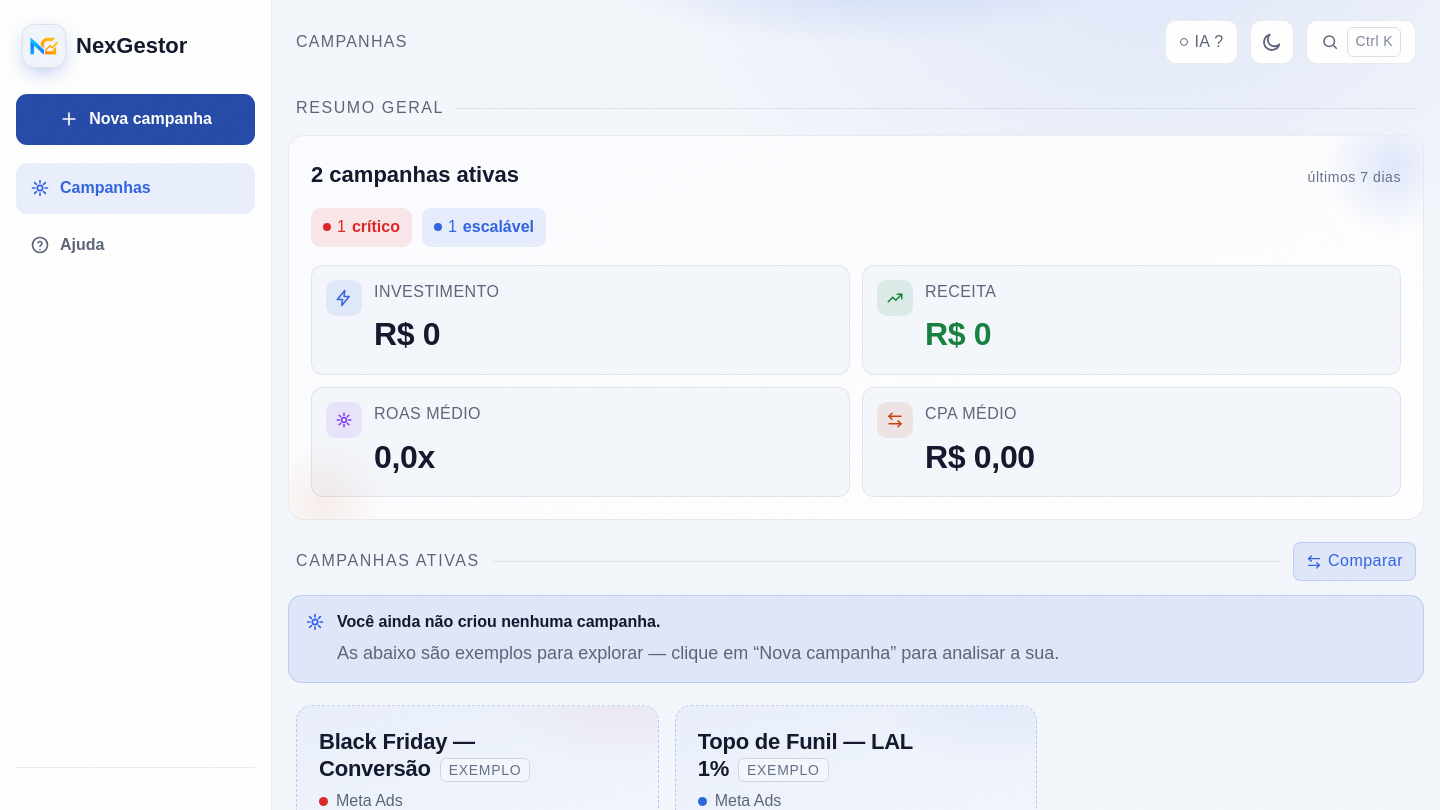
Test: AC5 — a Central de Ajuda responde às quatro perguntas › tem um bloco para cada pergunta da equipe
Step 1. Click the button "Ajuda" → coordinates (136, 245), box [16,220,255,270]
(page scrolled)
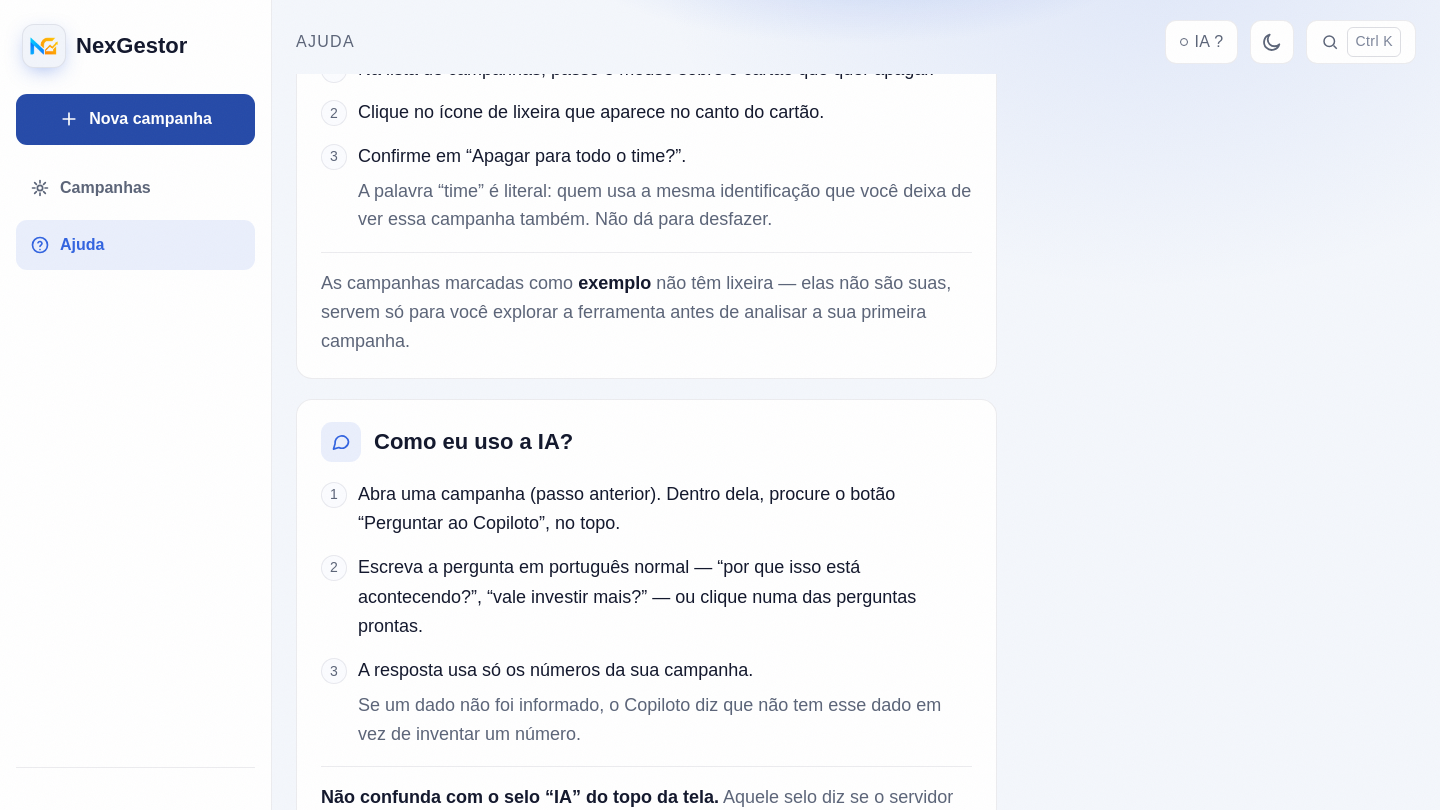
Now the heading "Como eu uso a IA?" is shown, box [374,425,573,459]
